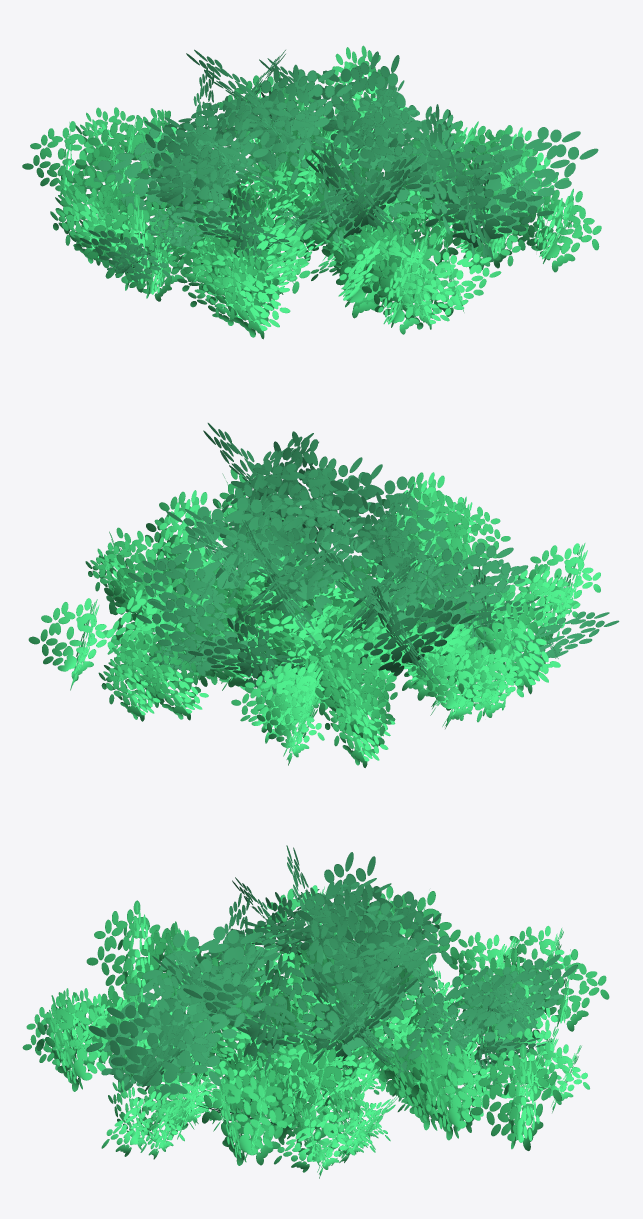
File: bush.obj
3 views of the same model, one above another, from view 1: azimuth 30°, elevation 25°; view 2: azimuth 150°, elevation 25°; view 3: azimuth 270°, elevation 25° (orthographic). The views are drawn at different scales.
Visible parts, largest first — view 1: bush03_jabami_mesh_leave_bush_00_mat, bush03_jabami_mesh_leave_bush_01_mat; view 2: bush03_jabami_mesh_leave_bush_00_mat, bush03_jabami_mesh_leave_bush_01_mat; view 3: bush03_jabami_mesh_leave_bush_00_mat, bush03_jabami_mesh_leave_bush_01_mat.
Boxes of the visible parts, x1=… form: bush03_jabami_mesh_leave_bush_00_mat: x1=22, y1=45, x2=601, y2=339; bush03_jabami_mesh_leave_bush_01_mat: x1=80, y1=49, x2=598, y2=282; bush03_jabami_mesh_leave_bush_00_mat: x1=28, y1=469, x2=600, y2=767; bush03_jabami_mesh_leave_bush_01_mat: x1=128, y1=423, x2=619, y2=693; bush03_jabami_mesh_leave_bush_00_mat: x1=22, y1=885, x2=609, y2=1178; bush03_jabami_mesh_leave_bush_01_mat: x1=86, y1=845, x2=577, y2=1127.
Size of the model in its own units: 5.67 by 2.23 by 5.64.
